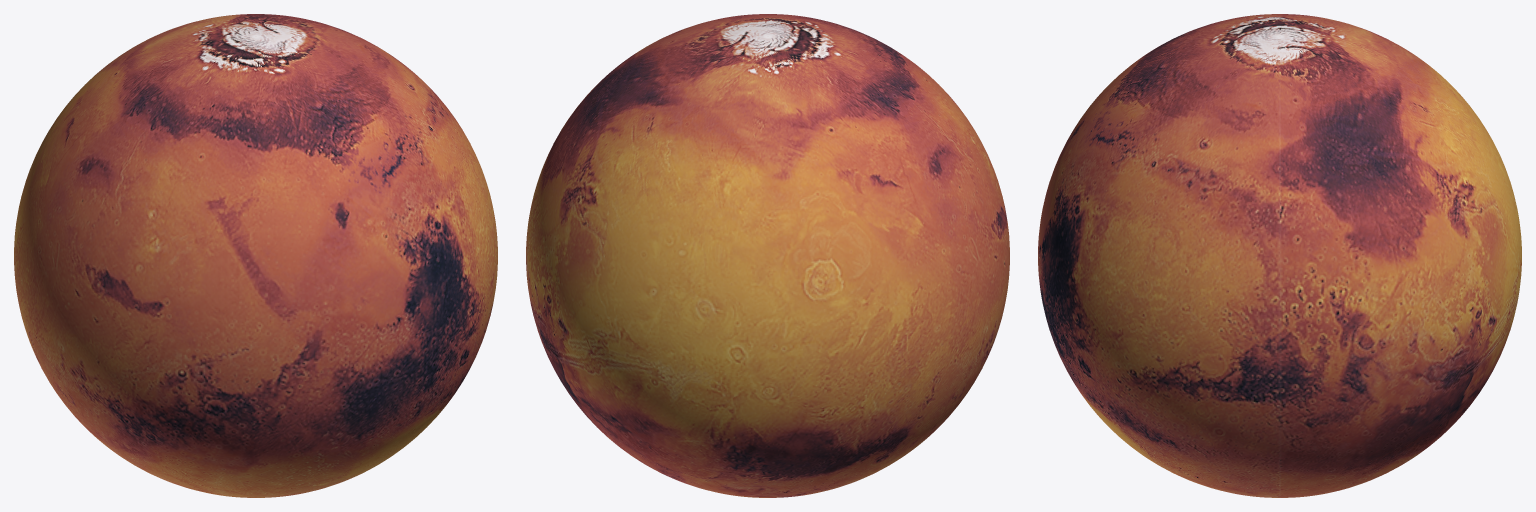
The model's file is threejs_mars.fbx.
The picture shows the model from 3 angles, left to right: view 1: azimuth 30°, elevation 25°; view 2: azimuth 150°, elevation 25°; view 3: azimuth 270°, elevation 25°; orthographic projection.
Parts seen in each view (by area): view 1: 球体; view 2: 球体; view 3: 球体.
Part boxes in pixels (x1,y1,x2,y2): 球体: (14,14,497,497); 球体: (526,14,1009,497); 球体: (1038,14,1521,497).
Bounding box in the file's own units: 200 × 200 × 200.
1 material, 1 textured.
